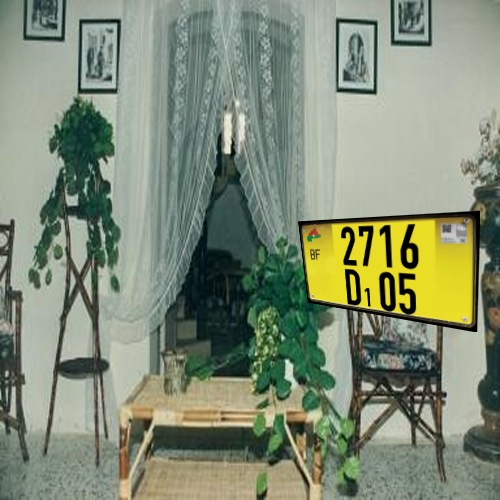plate: (290, 195, 487, 357)
